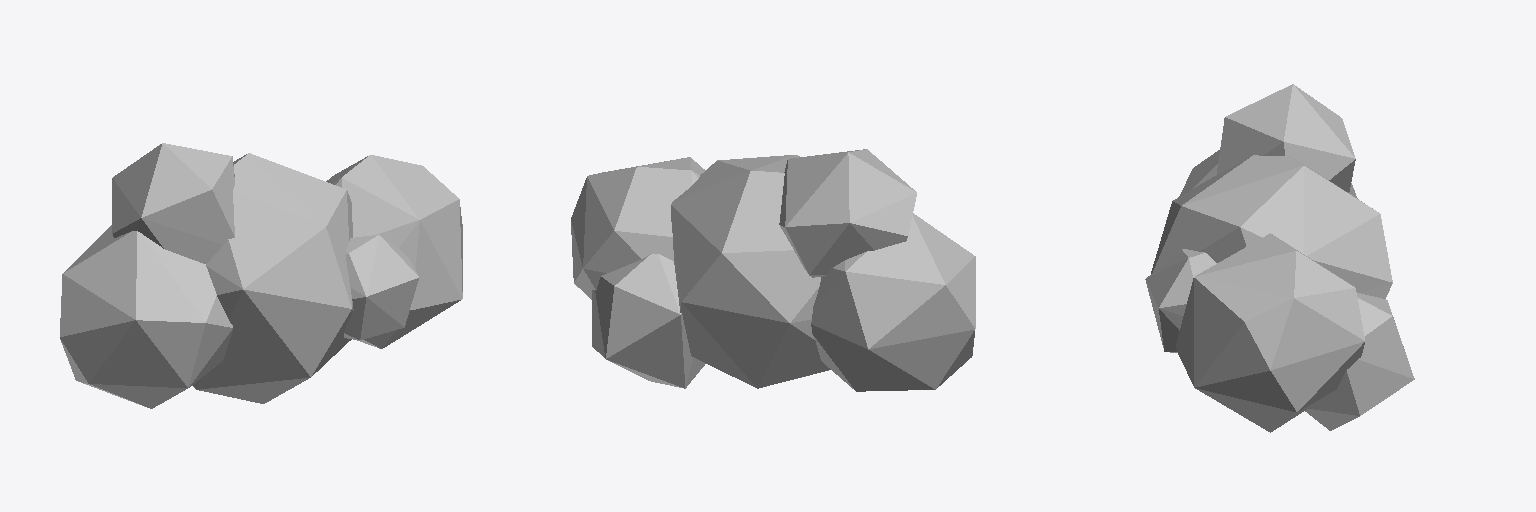
3 renders of one model, left to right at view 1: azimuth 30°, elevation 25°; view 2: azimuth 150°, elevation 25°; view 3: azimuth 270°, elevation 25°, orthographic.
Visible parts, largest first — view 1: Cloud_4_Icosphere.045; view 2: Cloud_4_Icosphere.045; view 3: Cloud_4_Icosphere.045.
Boxes of the visible parts, x1,y1,x2,y2 form: Cloud_4_Icosphere.045: [60, 143, 462, 408]; Cloud_4_Icosphere.045: [571, 149, 975, 391]; Cloud_4_Icosphere.045: [1145, 84, 1414, 432].
Size of the model in its own units: 3.78 by 2.32 by 2.19.
1 materials, 1 textured.